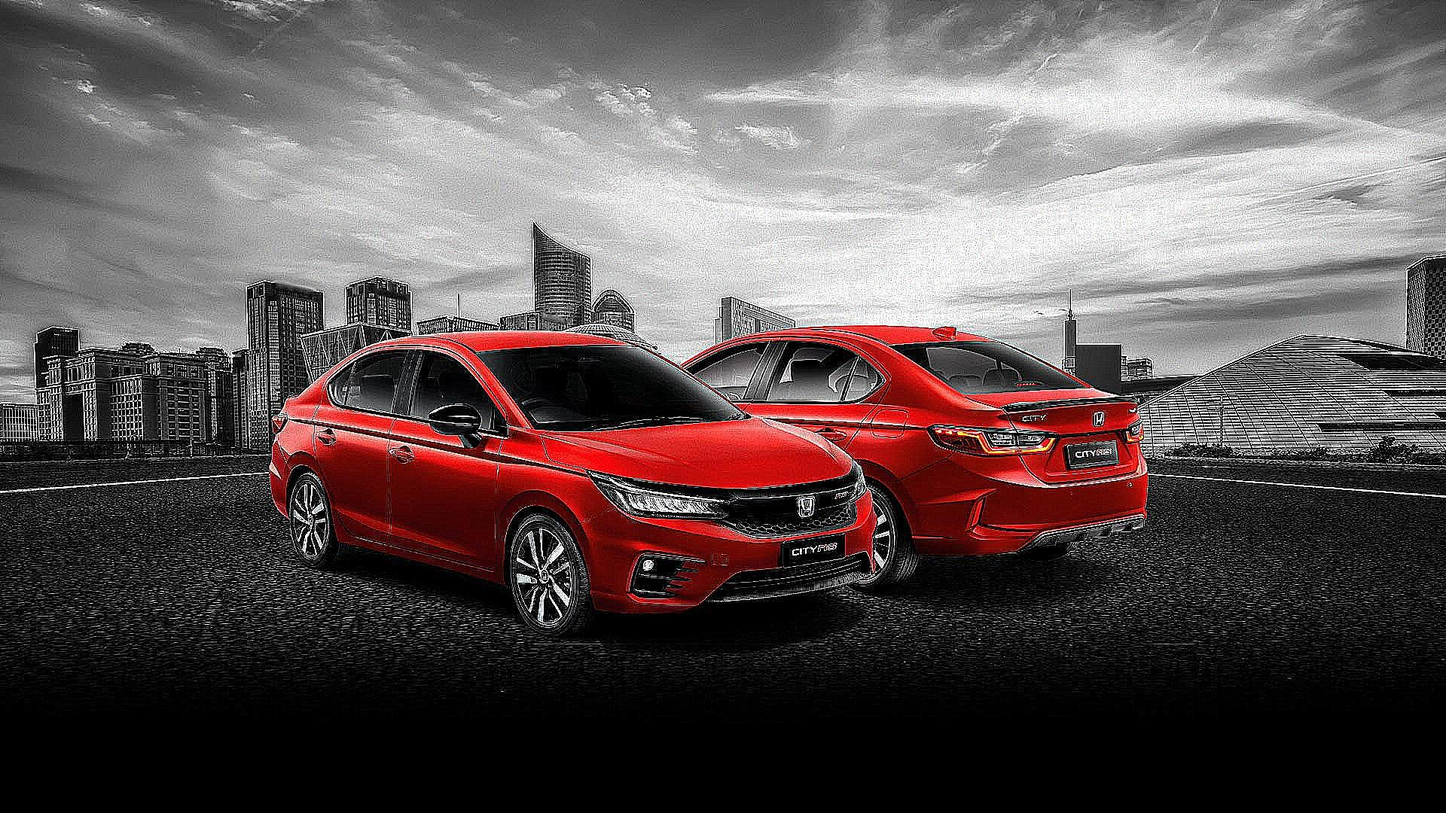Car boot: (963, 383, 1141, 486)
Car hood: (532, 417, 851, 491)
Driver-s door - -F-R-: (387, 328, 519, 598)
Fender - -F-R-: (488, 419, 610, 596)
Fender - -R-L-: (849, 330, 980, 527)
Fender - -R-R-: (265, 359, 334, 533)
Front bumper: (569, 481, 884, 621)
Headlight - -R-: (579, 466, 735, 528)
Passenger-s door - -R-L-: (745, 326, 896, 456)
Passenger-s door - -R-R-: (306, 326, 424, 576)
Rear bumper: (886, 444, 1154, 563)
Rear light - -L-: (930, 422, 1060, 460)
Side bumper - -R-: (328, 513, 513, 601)
Side mirror - -R-: (429, 403, 491, 454)
